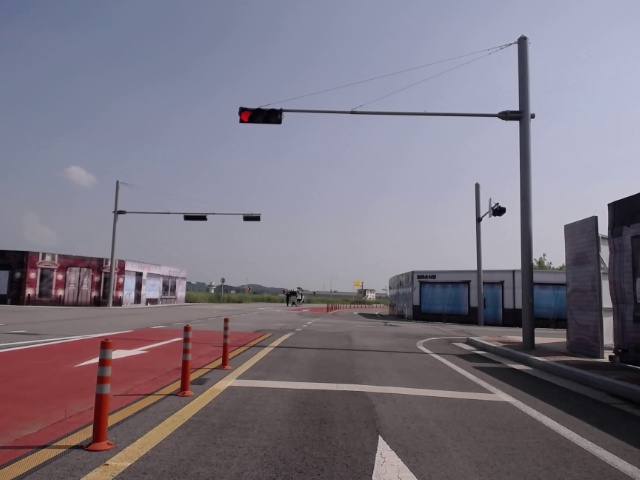red_3: (239, 108, 281, 124)
